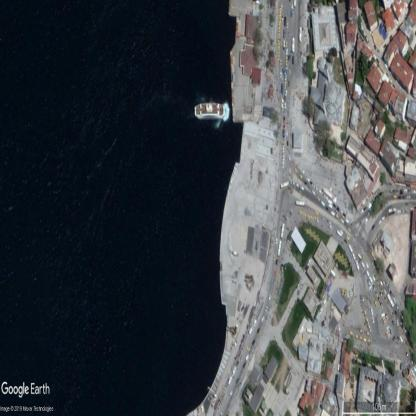ship: (194, 101, 229, 120)
